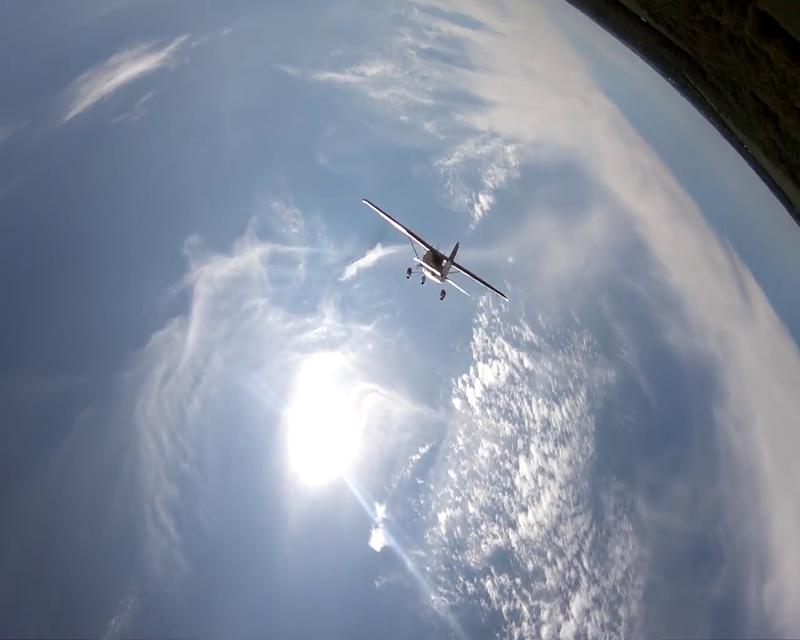UAV: (360, 197, 509, 302)
